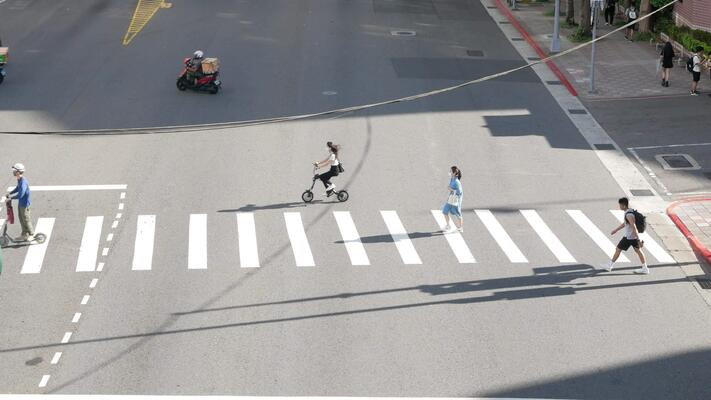Crosswalk: (42, 210, 434, 269), (428, 197, 611, 266)
Person: (605, 195, 656, 279), (1, 160, 48, 248), (436, 163, 471, 236), (307, 136, 348, 195)
